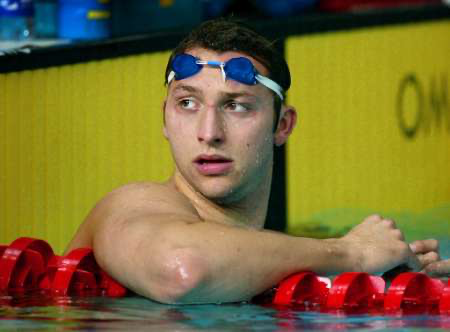Face: (160, 64, 273, 208)
